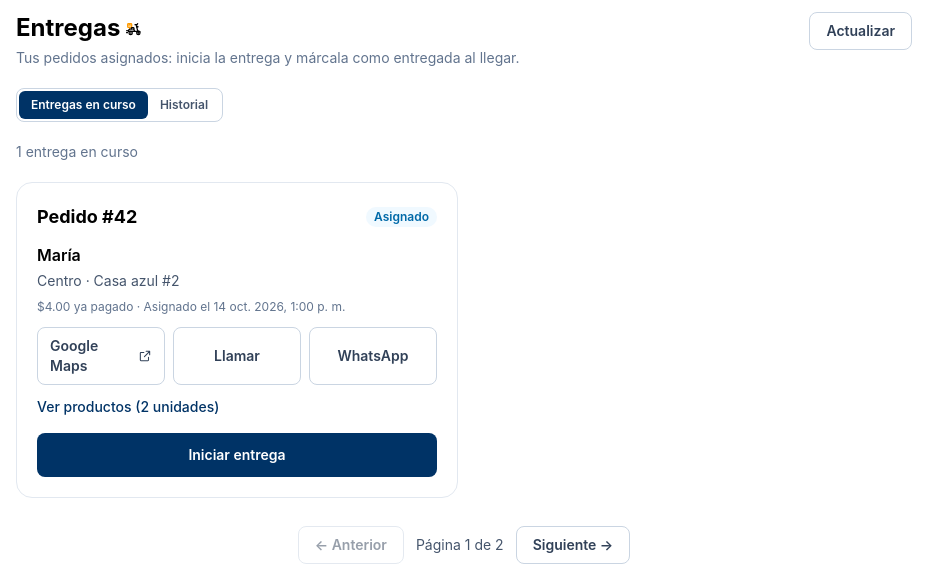
Test: Entregas del repartidor › cambia de página y reinicia la paginación al abrir el historial, que no tiene acciones
Click the button "Siguiente →" at (573,545), box [516,526,630,564]
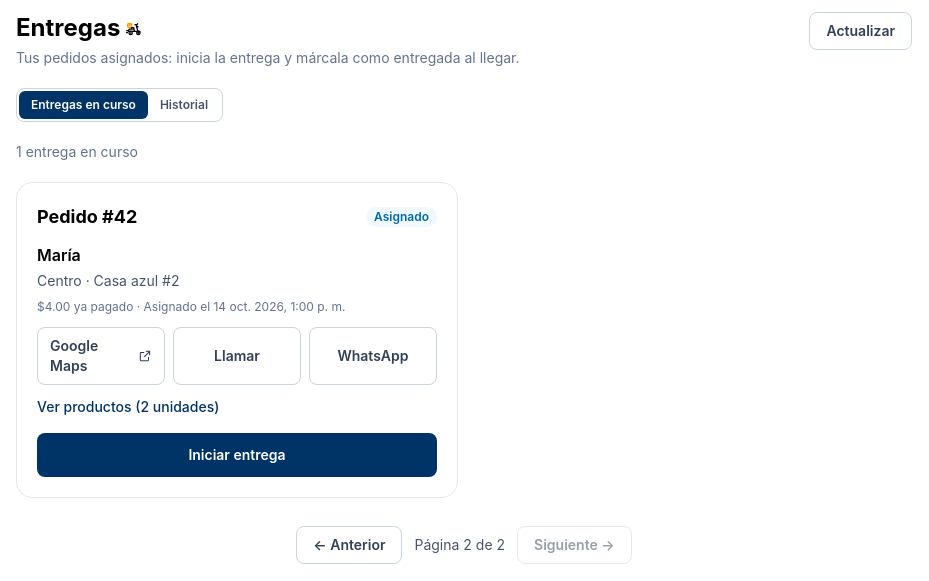
Click the button "Historial" at (184,105), box [148,91,220,119]
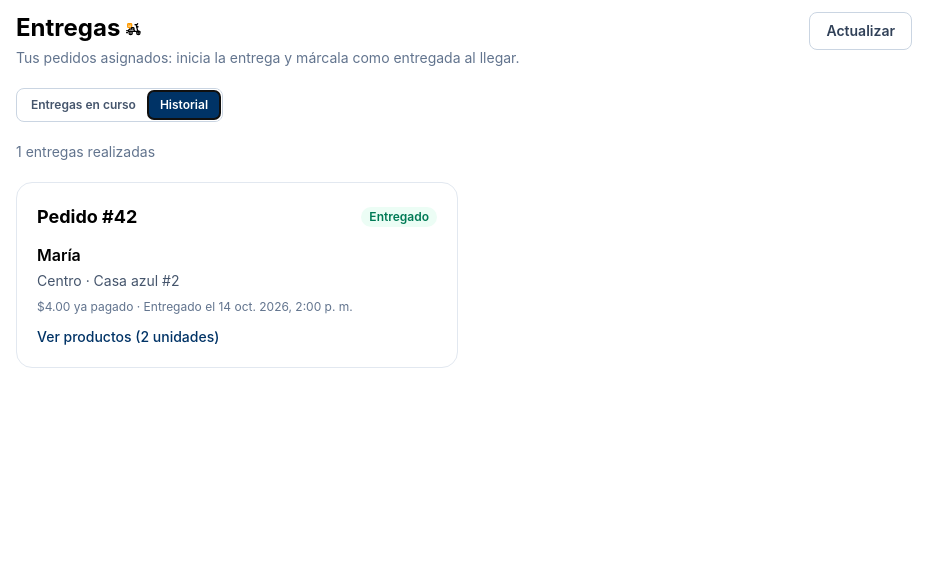
Now the element "Pedido #42" shows "Entregado", box [369,209,429,224]
Now the button "Iniciar entrega" is gone
Now the link "Google Maps" is gone
